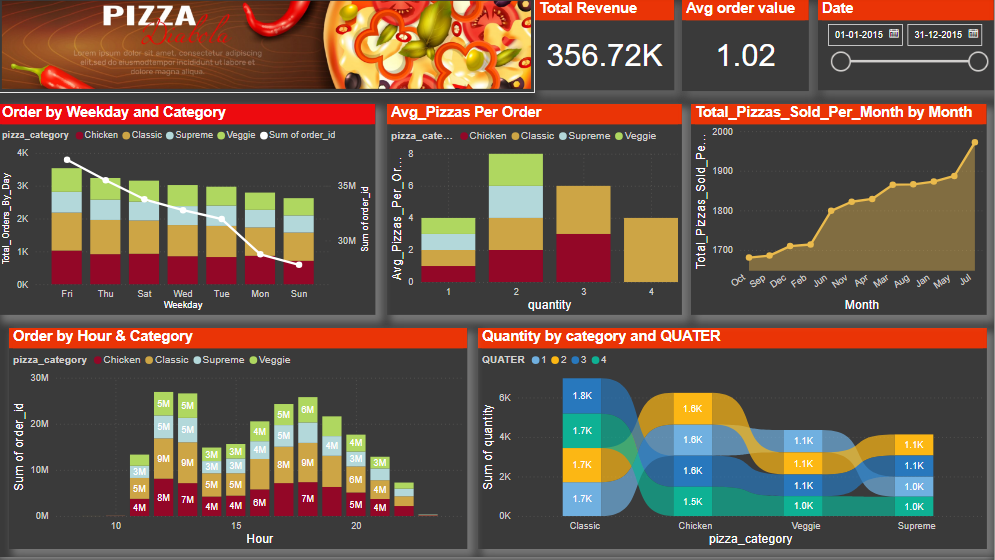

The dashboard page shown, as its layout file describes it:
{"tool":"powerbi","page":{"name":"Page 1","canvas":[1280,720],"ordinal":0},"visuals":[{"type":"image","box":[0,0,690.1,123.4],"z":0},{"type":"card","fields":{"Values":["pizza_sales.Total_Pizzas_Sold_Per_Year"]},"box":[82.2,208.2,285.3,151.6],"z":1000},{"type":"columnChart","title":"Avg_Pizzas Per Order","fields":{"Category":["pizza_sales.quantity"],"Y":["pizza_sales.Avg_Pizzas_Per_Order"],"Series":["pizza_sales.pizza_category"]},"box":[499.9,137.5,379.1,271.2],"z":2000},{"type":"lineStackedColumnComboChart","title":" Order by Weekday and Category","fields":{"Category":["DateTable.Weekday"],"Y":["pizza_sales.Total_Orders_By_Day"],"Series":["pizza_sales.pizza_category"],"Y2":["Sum(pizza_sales.order_id)"]},"box":[0,138.1,484.7,270.6],"z":3000},{"type":"ribbonChart","title":"Quantity by category and QUATER","fields":{"Category":["pizza_sales.pizza_category"],"Y":["Sum(pizza_sales.quantity)"],"Series":["DateTable.QUATER"]},"box":[616.9,425.4,654.1,284],"z":4000},{"type":"stackedAreaChart","fields":{"Y":["pizza_sales.Total_Pizzas_Sold_Per_month"],"Category":["DateTable.Month"]},"box":[890.6,137.5,380.4,271.2],"z":5000},{"type":"columnChart","title":"Order by Hour & Category","fields":{"Category":["pizza_sales.Hour"],"Y":["Sum(pizza_sales.order_id)"],"Series":["pizza_sales.pizza_category"]},"box":[14.1,425.4,588.6,284],"z":6000},{"type":"card","title":"Total Revenue","fields":{"Values":["pizza_sales.Total_Revenue"]},"box":[690.1,3.9,178.6,115.7],"z":7000},{"type":"card","title":"Avg order value","fields":{"Values":["pizza_sales.Avg_Pizzas_Per_Order"]},"box":[879,3.9,163.2,116.9],"z":8000},{"type":"slicer","title":"Date","fields":{"Values":["DateTable.Date"]},"box":[1053.8,3.9,226.2,115.7],"z":9000}]}

Visuals, with their boxes in screenshot pixels (x1, y1, x2, y2), scaled from the page's 1280x720 canvas onto the 995x560 screenshot:
image: 0, 0, 536, 96
card - pizza_sales.Total_Pizzas_Sold_Per_Year: 64, 162, 286, 280
"Avg_Pizzas Per Order" columnChart: 389, 107, 683, 318
" Order by Weekday and Category" lineStackedColumnComboChart: 0, 107, 377, 318
"Quantity by category and QUATER" ribbonChart: 480, 331, 988, 552
stackedAreaChart - pizza_sales.Total_Pizzas_Sold_Per_month x DateTable.Month: 692, 107, 988, 318
"Order by Hour & Category" columnChart: 11, 331, 469, 552
"Total Revenue" card: 536, 3, 675, 93
"Avg order value" card: 683, 3, 810, 94
"Date" slicer: 819, 3, 994, 93
